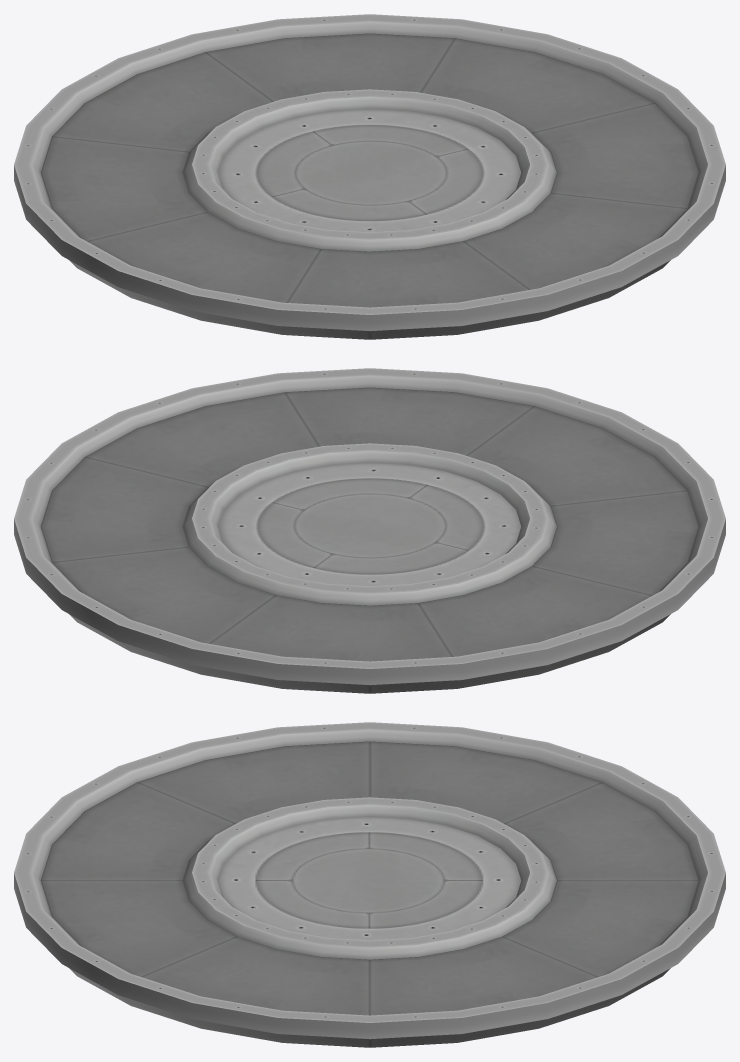
Rendered from Eridani_Mount_2.obj.
3 renders of one model, top to bottom at view 1: azimuth 30°, elevation 25°; view 2: azimuth 150°, elevation 25°; view 3: azimuth 270°, elevation 25°, orthographic.
Parts seen in each view (by area): view 1: Eridani_Mount_2; view 2: Eridani_Mount_2; view 3: Eridani_Mount_2.
Part boxes in pixels (box(x1,y1,x2,y2)): Eridani_Mount_2: box(14, 14, 725, 339); Eridani_Mount_2: box(14, 368, 725, 693); Eridani_Mount_2: box(14, 722, 725, 1047).
Bounding box in the file's own units: 2.5 × 0.1501 × 2.5.
